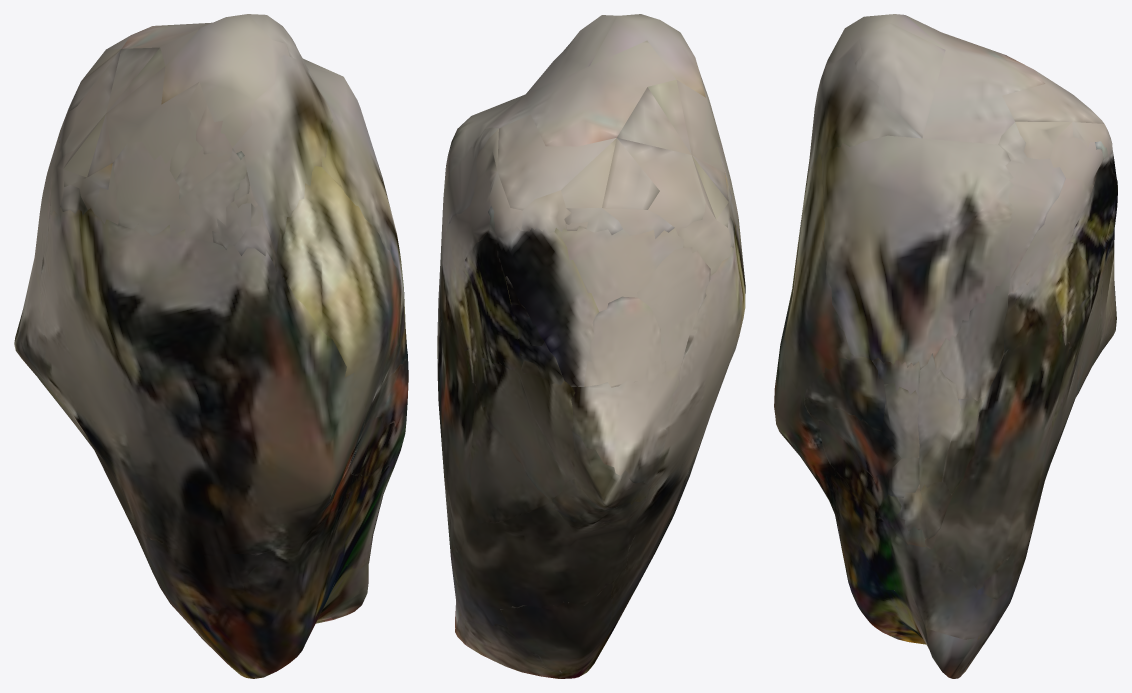
File: hall.glb
3 views of the same model, side by side, from view 1: azimuth 30°, elevation 25°; view 2: azimuth 150°, elevation 25°; view 3: azimuth 270°, elevation 25° (orthographic). The views are drawn at different scales.
Bounding box in the file's own units: 0.1295 × 0.2675 × 0.1355.
Materials: 1 (1 with a texture image).
